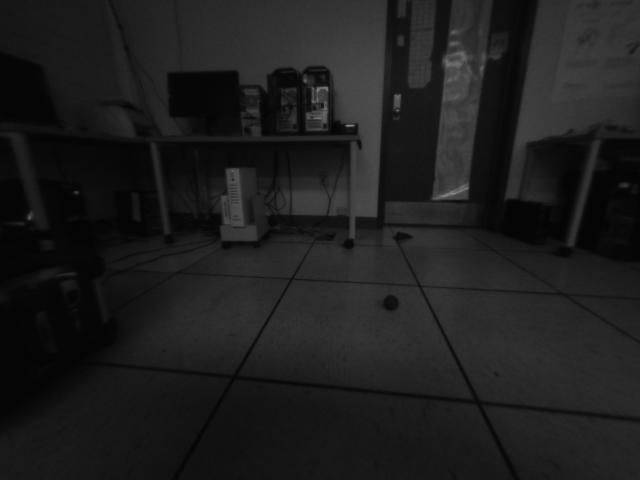dogtoy: (376, 289, 404, 316)
